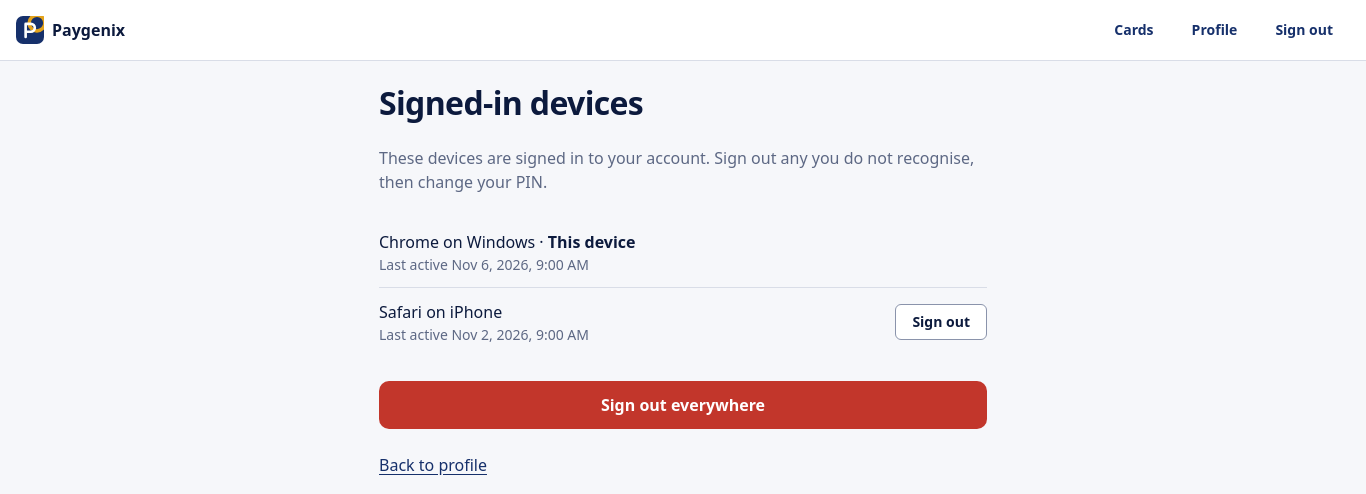
lists devices, marks this one, and signs another out
The width and height of the screenshot is (1366, 494).
Expected: the number of list items is 2, 379,231 -> 636,274; 379,287 -> 987,357
Expected: the text "This device" is shown, 548,231 -> 636,253
Click the button with aria-label "Sign out Safari on iPhone". click: (941, 322)
box: 895,304 -> 987,340
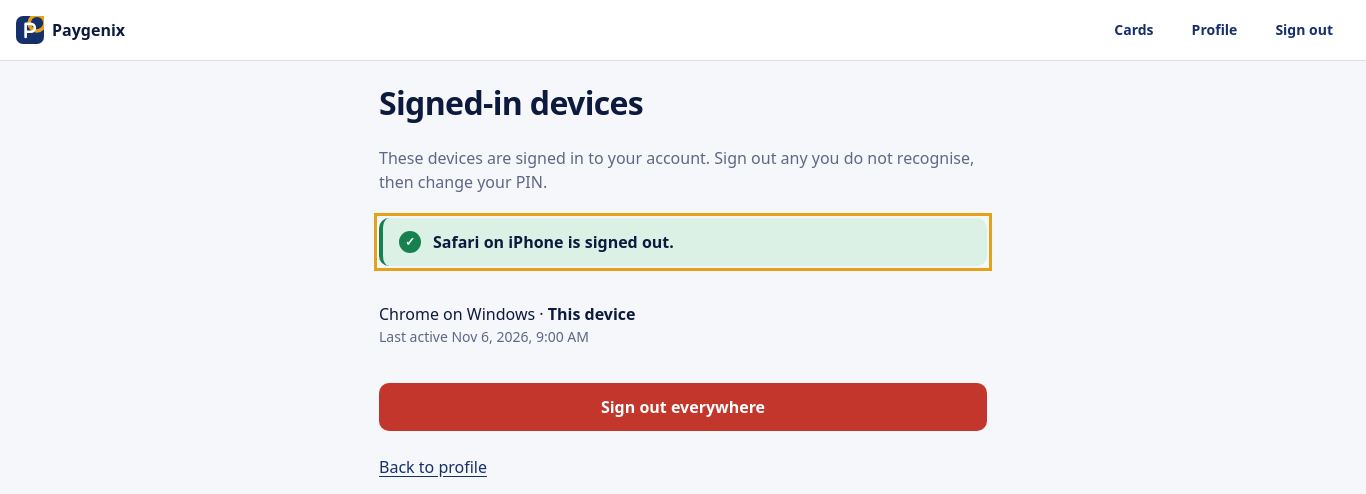
Expected: the text "Safari on iPhone is signed out." is shown, 433,231 -> 674,253
Expected: the number of list items is 1, 379,303 -> 636,346
